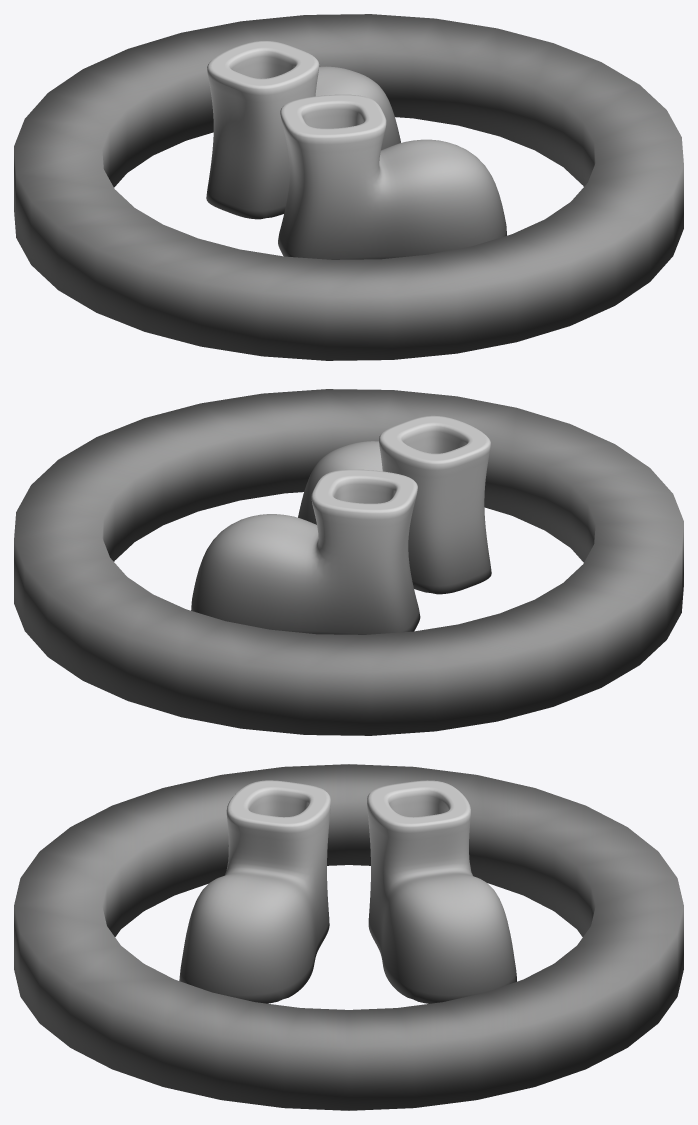
File: SPOT.dae
The picture shows the model from 3 angles, top to bottom: view 1: azimuth 30°, elevation 25°; view 2: azimuth 150°, elevation 25°; view 3: azimuth 270°, elevation 25°; orthographic projection.
Parts seen in each view (by area): view 1: Circle; view 2: Circle; view 3: Circle.
Part boxes in pixels (x1,y1,x2,y2): Circle: (14,14,683,360); Circle: (14,389,683,735); Circle: (14,764,683,1110).
Size of the model in its own units: 19.11 by 19.11 by 4.47.
1 material, 1 textured.
